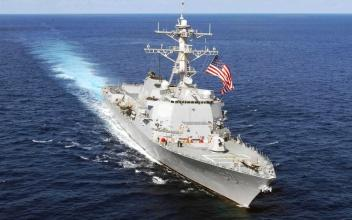warship: (101, 10, 276, 206)
